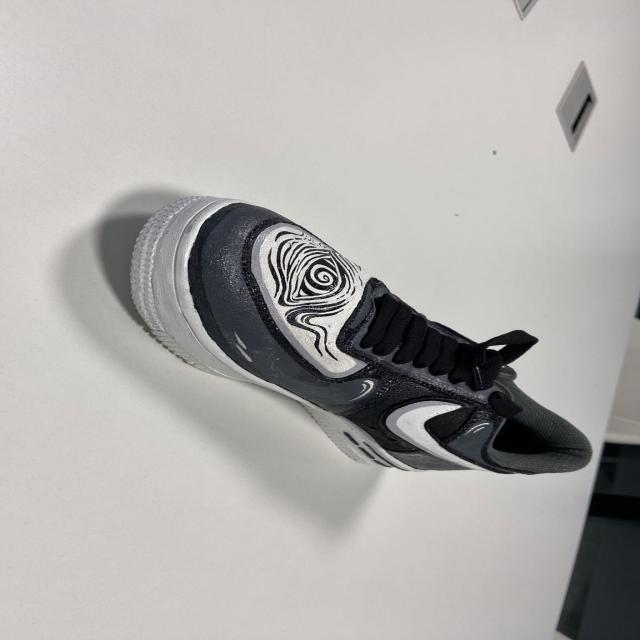shoe: (125, 193, 596, 479)
